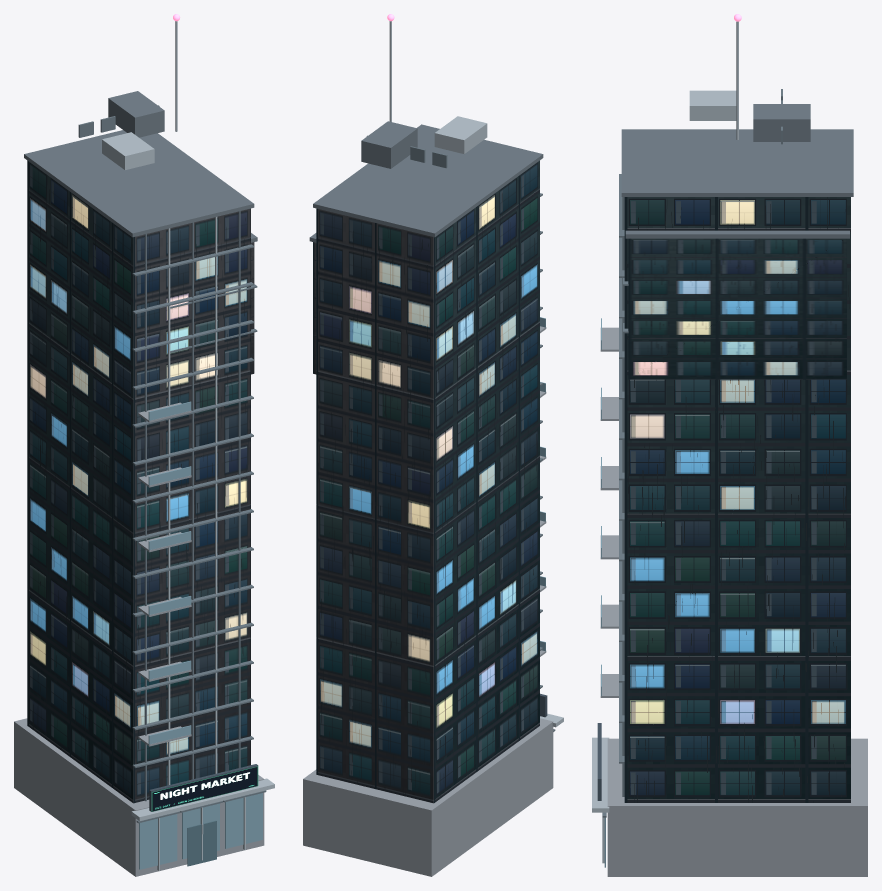
Rendered from building_09.glb.
3 views of the same model, side by side, from view 1: azimuth 30°, elevation 25°; view 2: azimuth 150°, elevation 25°; view 3: azimuth 270°, elevation 25° (orthographic). The views are drawn at different scales.
Visible parts, largest first — view 1: facade_sideb_3, facade_0, roof, frame, concrete, glass, alum, sign_8, tint; view 2: facade_back_1, facade_sideb_3, concrete, roof, alum, frame, facade_side_2, facade_back_5; view 3: facade_side_2, facade_side_6, concrete, roof, frame, alum.
Boxes of the visible parts, bbox=[...] form: facade_sideb_3: bbox=[27, 160, 133, 802]; facade_0: bbox=[133, 208, 250, 803]; roof: bbox=[24, 91, 257, 242]; frame: bbox=[78, 105, 266, 823]; concrete: bbox=[14, 237, 264, 876]; glass: bbox=[139, 401, 262, 869]; alum: bbox=[102, 21, 274, 870]; sign_8: bbox=[151, 766, 258, 811]; tint: bbox=[187, 820, 216, 866]; facade_back_1: bbox=[316, 208, 433, 803]; facade_sideb_3: bbox=[434, 160, 539, 802]; concrete: bbox=[303, 237, 553, 876]; roof: bbox=[309, 121, 543, 242]; alum: bbox=[389, 21, 563, 727]; frame: bbox=[366, 135, 555, 731]; facade_side_2: bbox=[316, 209, 316, 774]; facade_back_5: bbox=[313, 242, 316, 374]; facade_side_2: bbox=[624, 197, 850, 802]; facade_side_6: bbox=[628, 238, 846, 379]; concrete: bbox=[600, 327, 867, 876]; roof: bbox=[621, 104, 853, 238]; frame: bbox=[602, 89, 782, 817]; alum: bbox=[592, 21, 738, 863].
Bounding box in the file's own units: 16.2 × 90.68 × 26.7.
19 materials, 9 textured.
